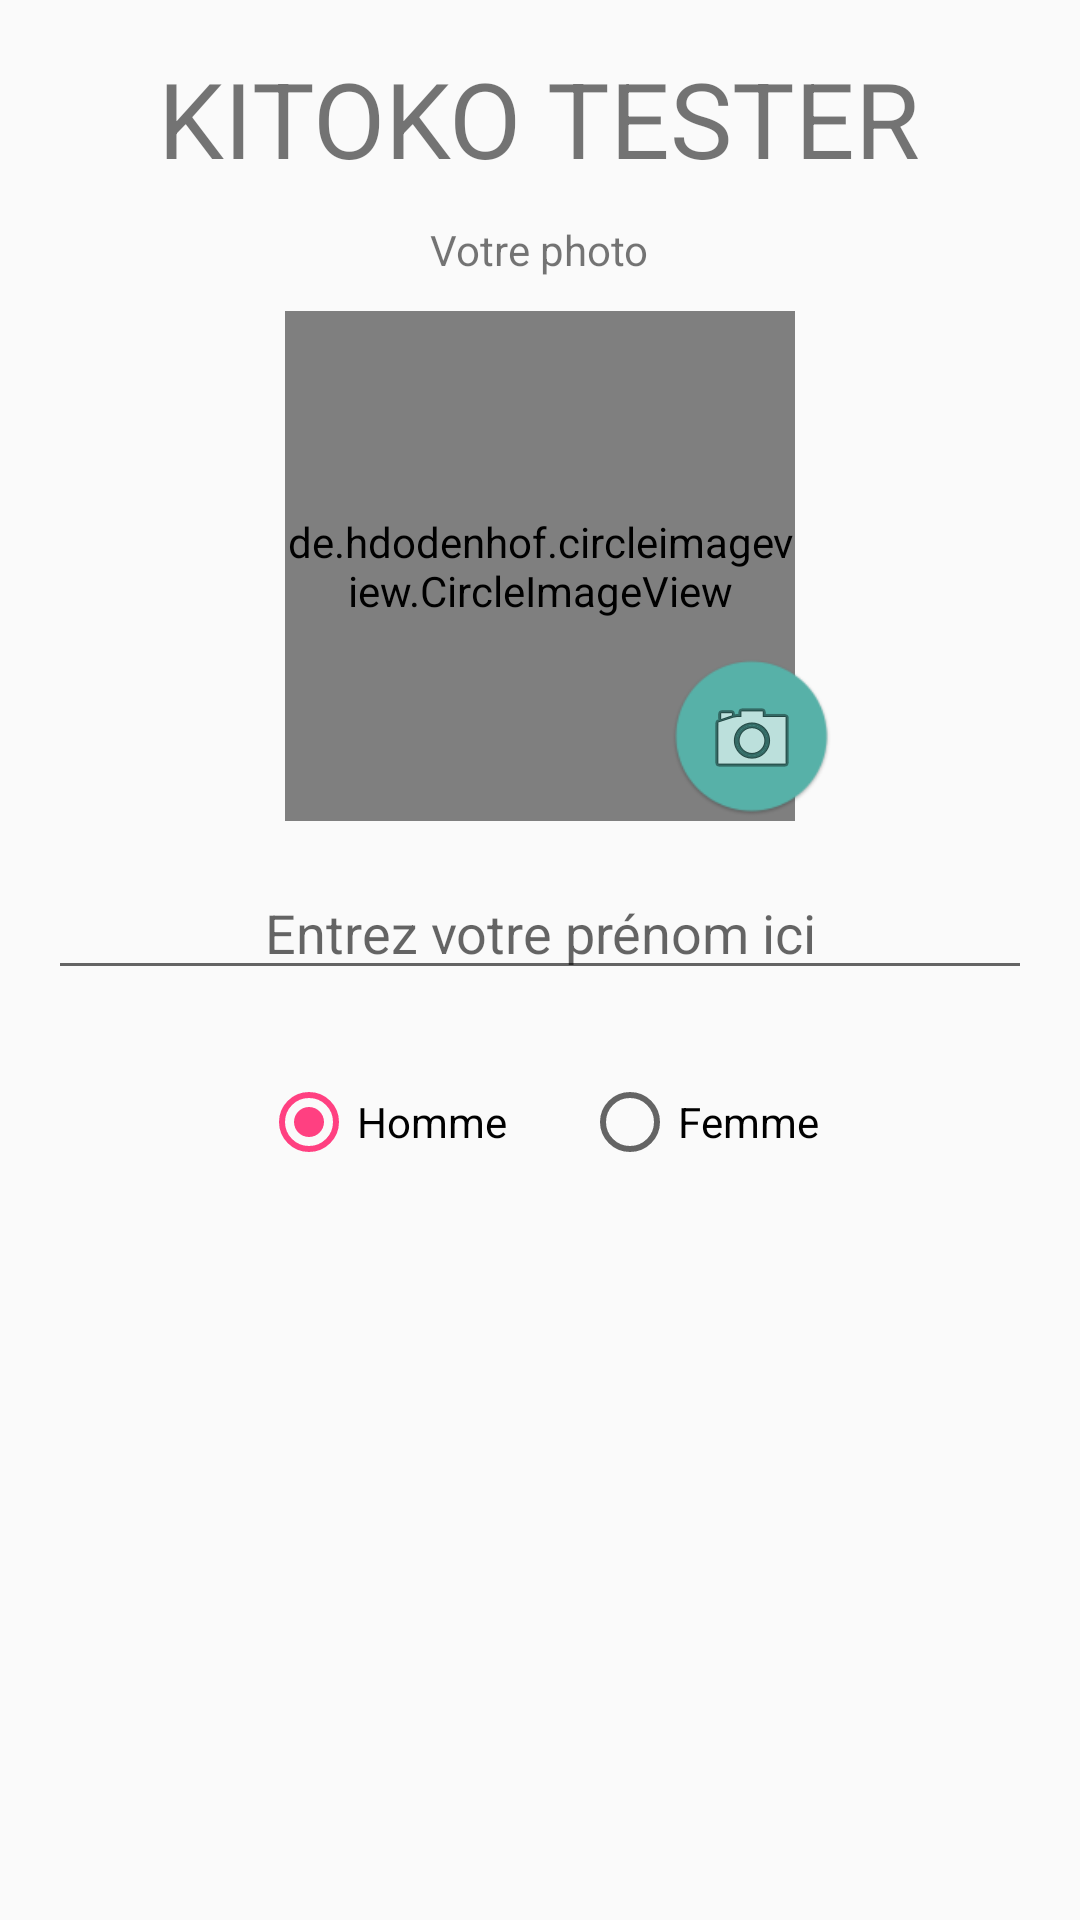

Icons on this 1080 × 1920 Android screen, each with the point to tap as point (x, y):
camera: point (751, 738)
